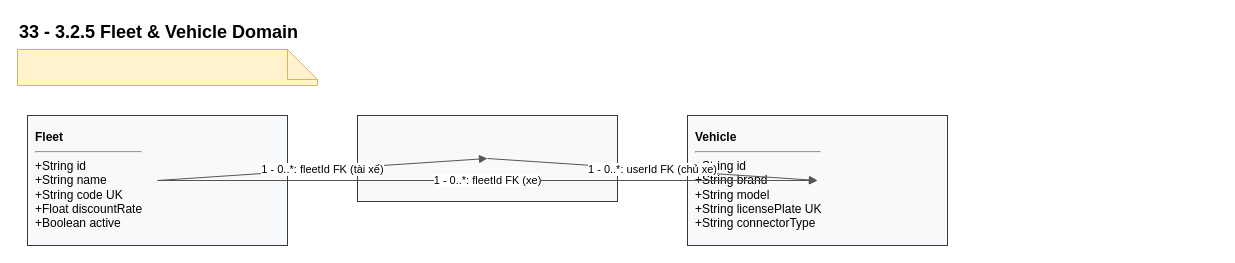
This 1235x263 diagram has some shape labels left out. Here are the shapes that lost their labels. From the top down, the centre of each, then its label:
the point at 167,67: Mermaid classDiagram source: PHAN_TICH_THIET_KE_HE_THONG.md:2026
the point at 487,158: User +String id +String fleetId FK
